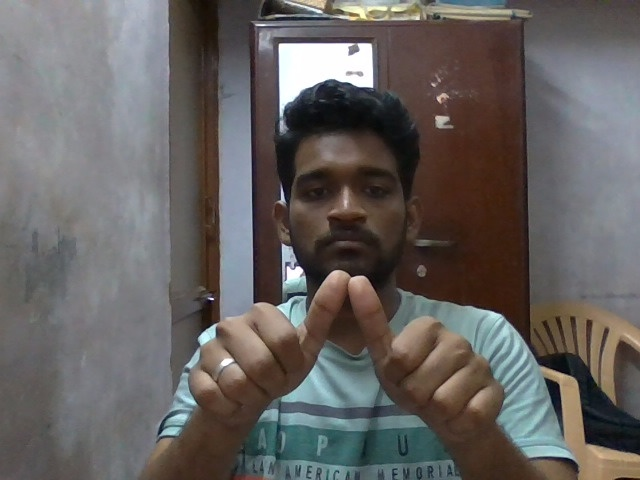A: (183, 265, 515, 463)
